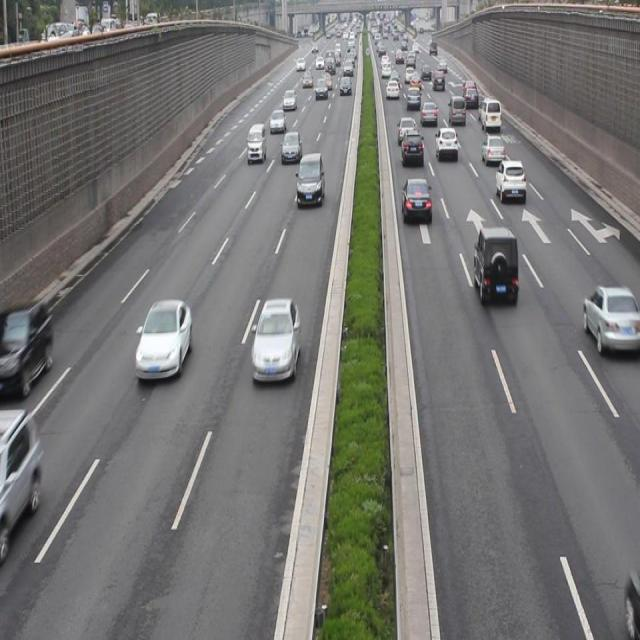car: (1, 299, 54, 400), (0, 407, 40, 539), (135, 298, 192, 381), (252, 295, 300, 384), (580, 282, 640, 353), (473, 225, 518, 308), (494, 157, 525, 203), (401, 176, 431, 223), (400, 128, 423, 169), (433, 126, 458, 161), (480, 133, 504, 167), (280, 130, 301, 164), (397, 115, 416, 146), (448, 95, 465, 126), (420, 100, 437, 126), (268, 108, 284, 134)
truck: (296, 152, 325, 207), (246, 122, 266, 162), (480, 98, 501, 130)
